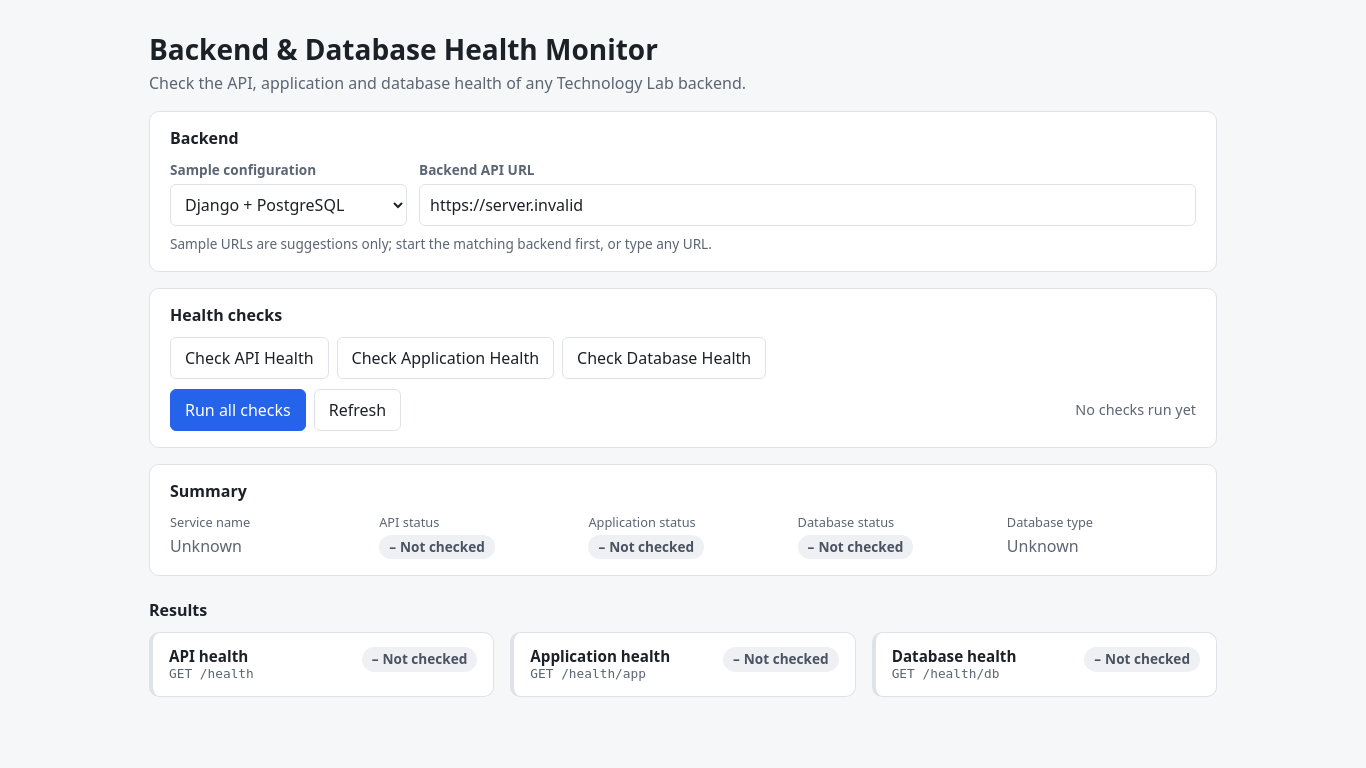
it: App › shows connection failures
Click the button "Check API Health" at (249, 358), box left=170, top=337, right=328, bottom=379
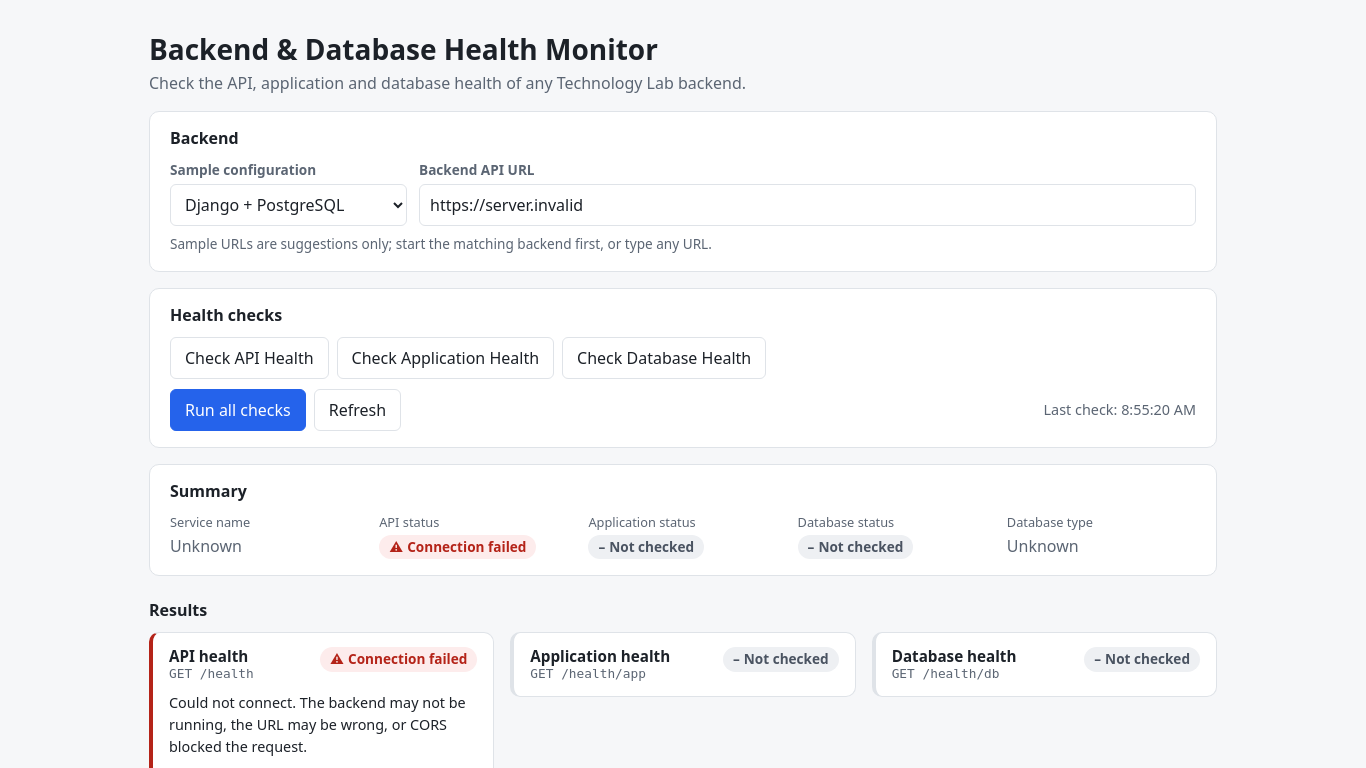
Expected: the text "Connection failed" in the row of "/health/app" is shown, left=348, top=649, right=467, bottom=668
Expected: the text "CORS blocked the request" is shown, left=169, top=693, right=466, bottom=756
